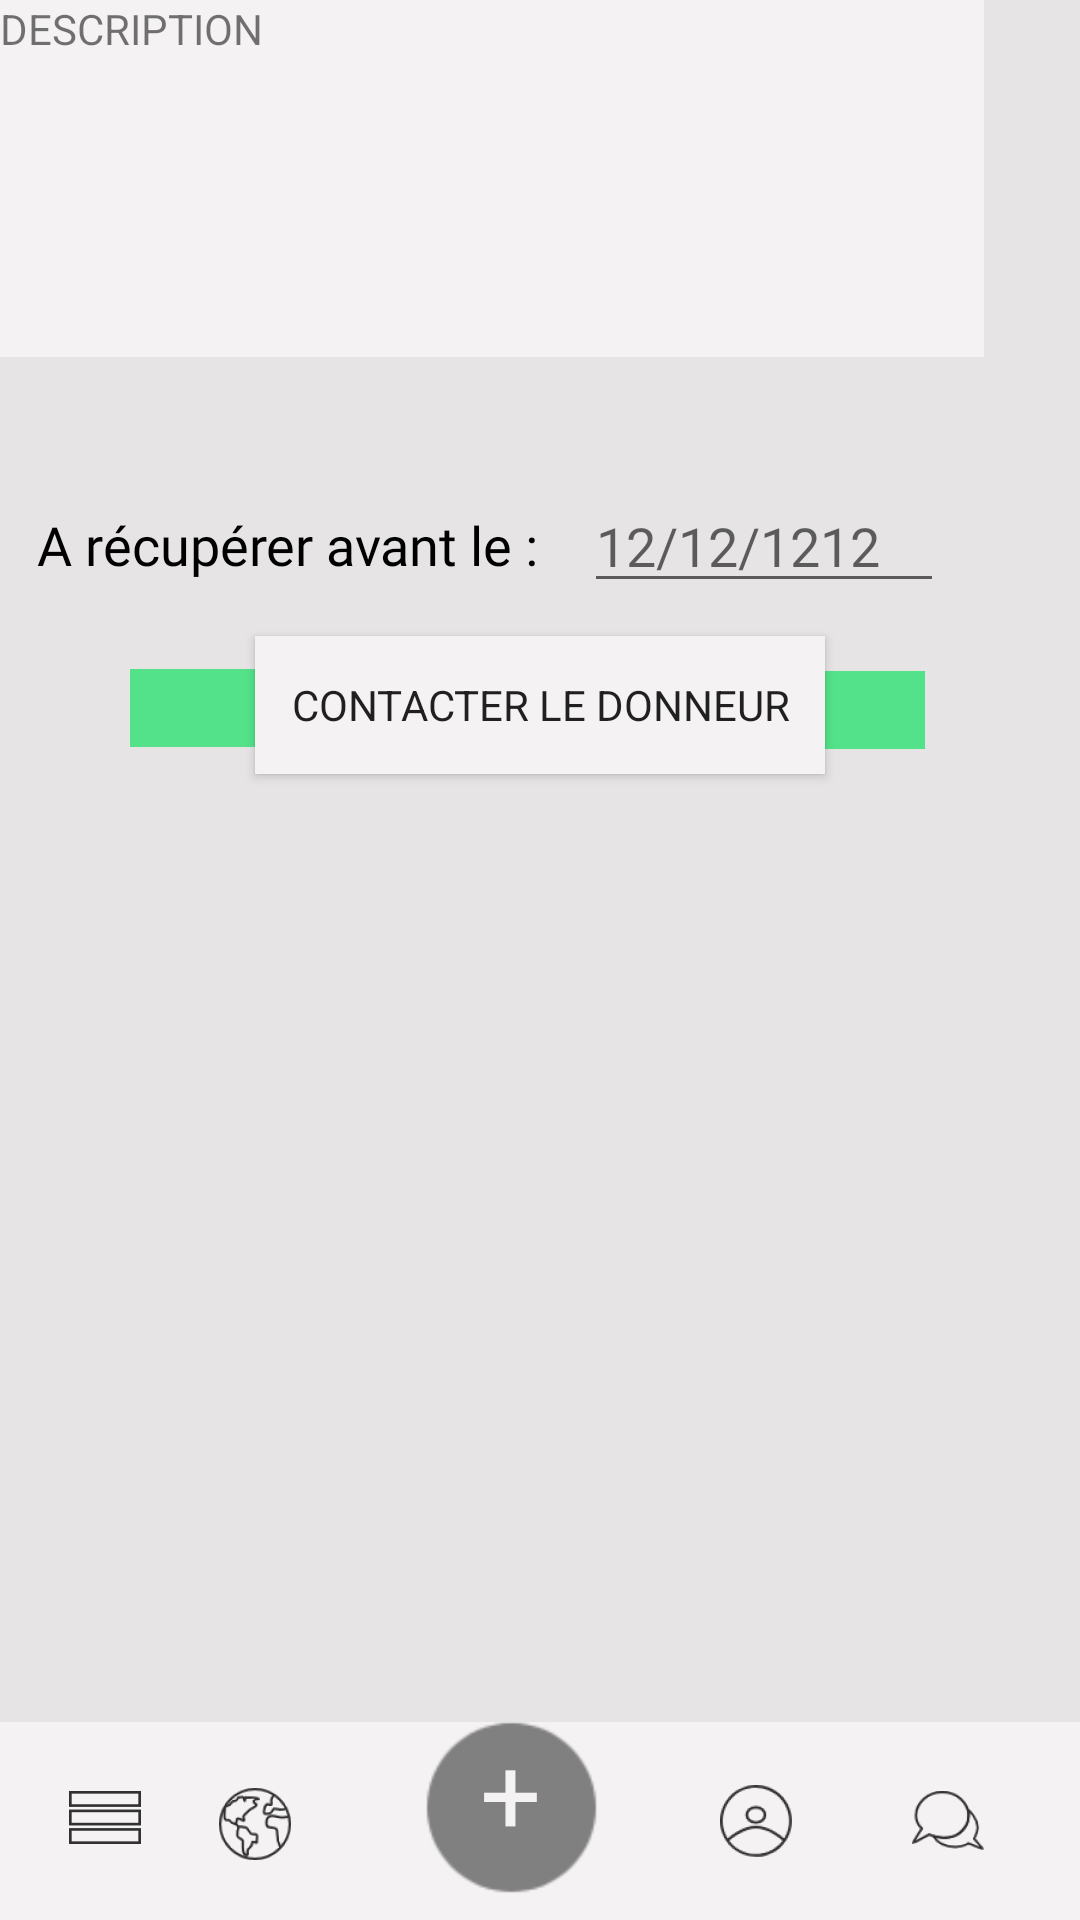

Where icons sit on this 1080*1920 app screen, as (x1, y1, x2, y2):
add: (426, 1722, 597, 1893)
discuss: (912, 1791, 984, 1850)
menu: (69, 1791, 141, 1844)
planet: (219, 1788, 291, 1860)
